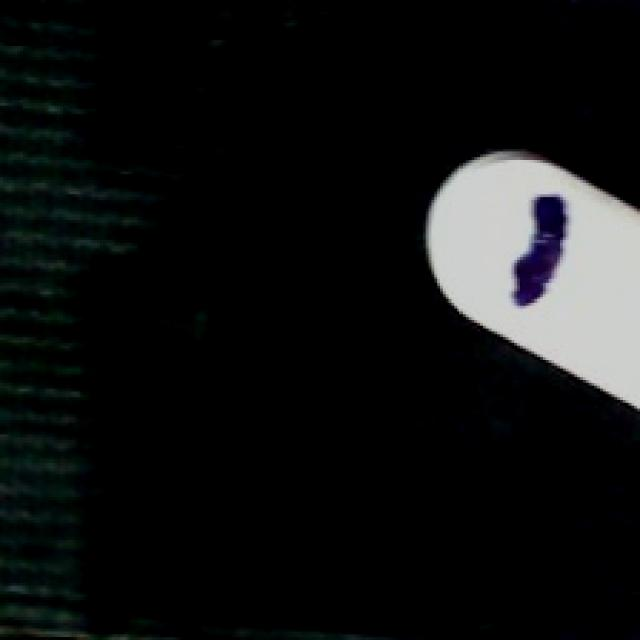defected: (420, 143, 640, 417)
